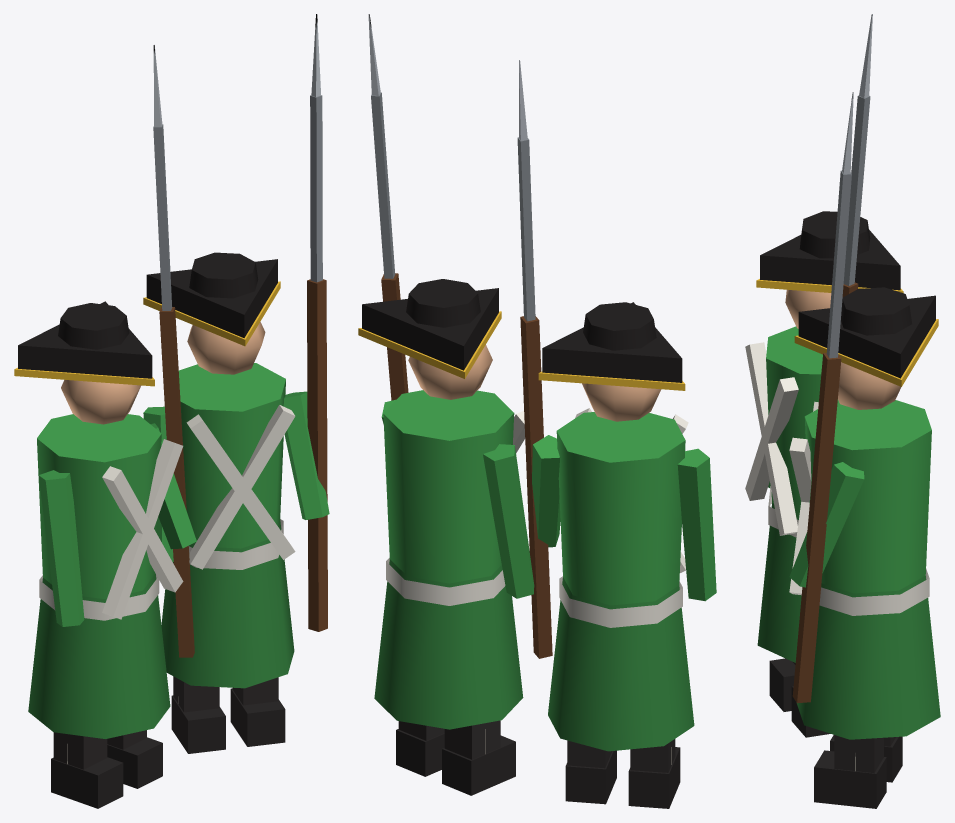
The model's file is sentry_dl4_green.glb.
3 views of the same model, side by side, from view 1: azimuth 30°, elevation 25°; view 2: azimuth 150°, elevation 25°; view 3: azimuth 270°, elevation 25° (orthographic). The views are drawn at different scales.
Parts seen in each view (by area): view 1: sentry_dl4_green; view 2: sentry_dl4_green; view 3: sentry_dl4_green.
Boxes of the visible parts, box(x1,y1,x2,y2) form: sentry_dl4_green: box(14, 14, 329, 808); sentry_dl4_green: box(358, 14, 716, 808); sentry_dl4_green: box(745, 14, 940, 808).
Size of the model in its own units: 0.2708 by 0.5985 by 0.1442.
Materials: 1 (1 with a texture image).
